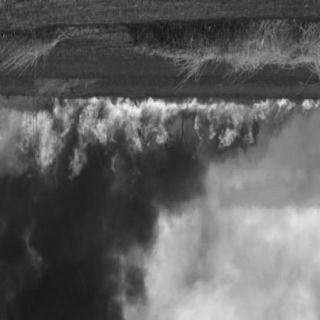Smoke: (6, 195, 150, 312)
